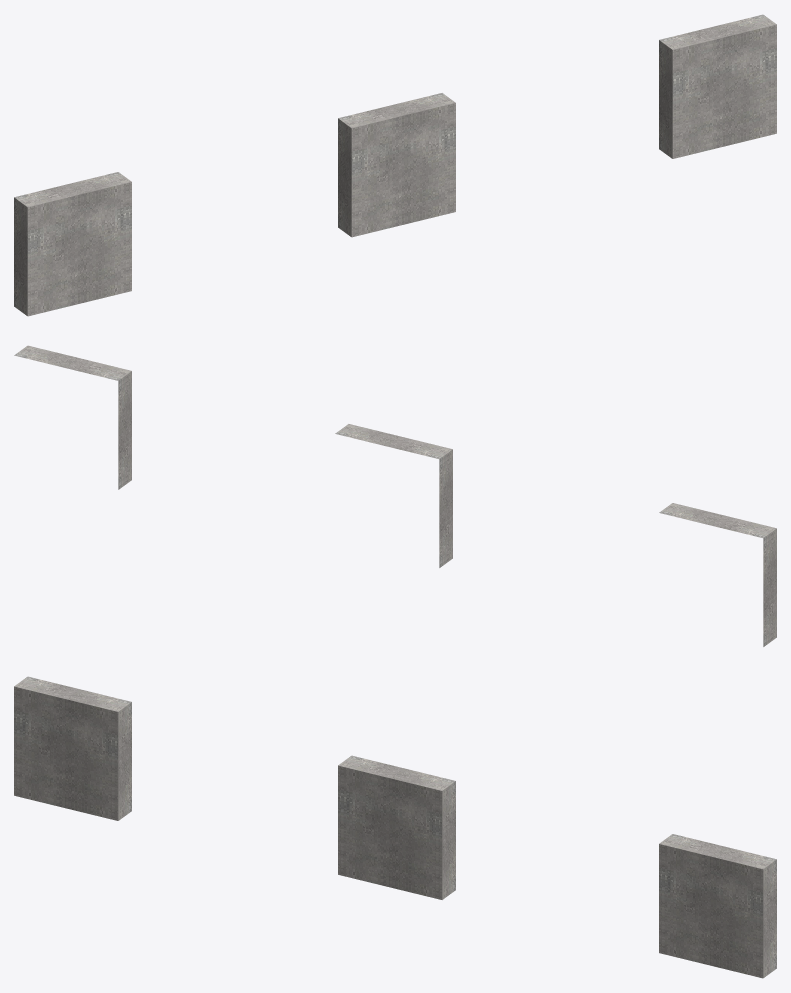
The model's file is jc-sj-251-geode.glb.
3 renders of one model, top to bottom at view 1: azimuth 30°, elevation 25°; view 2: azimuth 150°, elevation 25°; view 3: azimuth 330°, elevation 25°, orthographic.
Visible parts, largest first — view 1: Node; view 2: Node; view 3: Node.
Part boxes in pixels (bbox=[...]): Node: bbox=[14, 14, 776, 316]; Node: bbox=[14, 345, 776, 646]; Node: bbox=[14, 676, 776, 978].
Size of the model in its own units: 7.9 by 1.1 by 0.2508.
Materials: 1 (1 with a texture image).
